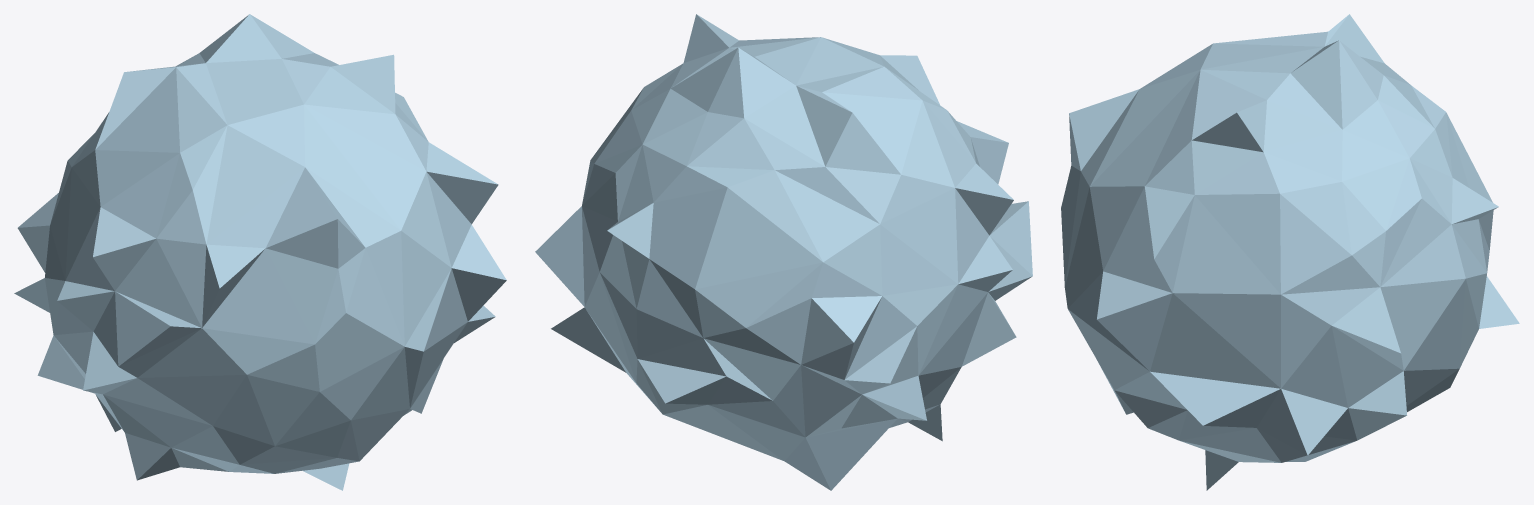
Rendered from icy_planet9.fbx.
3 views of the same model, side by side, from view 1: azimuth 30°, elevation 25°; view 2: azimuth 150°, elevation 25°; view 3: azimuth 270°, elevation 25° (orthographic).
Parts seen in each view (by area): view 1: icy_planet9; view 2: icy_planet9; view 3: icy_planet9.
Part boxes in pixels (x1,y1,x2,y2): icy_planet9: (14, 14, 506, 490); icy_planet9: (535, 14, 1032, 490); icy_planet9: (1061, 14, 1519, 490).
Bounding box in the file's own units: 226 × 227 × 216.
